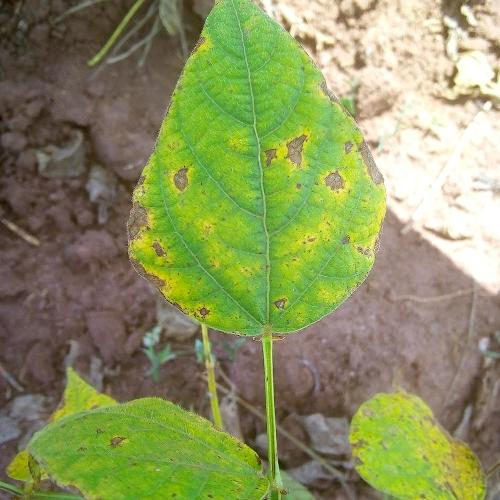hawar: (116, 201, 218, 329), (260, 109, 372, 215), (154, 146, 213, 206), (333, 229, 388, 270), (270, 285, 306, 322)
mozaik: (114, 54, 387, 322)
